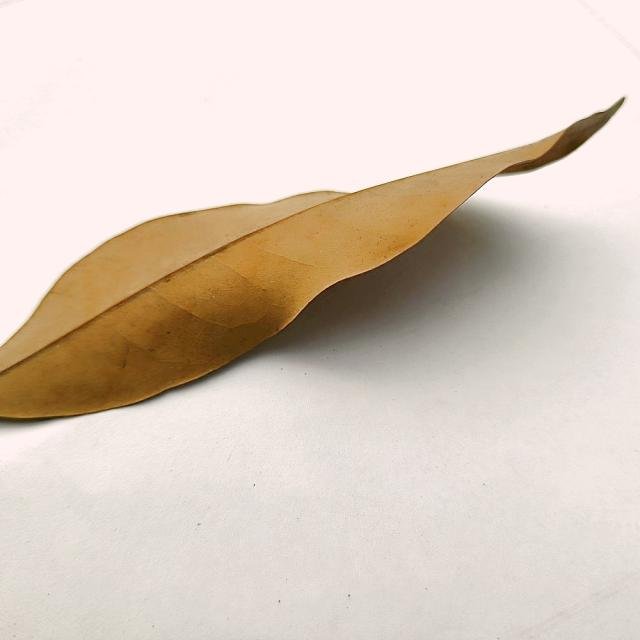Dry_Leaf-Lychee: (0, 100, 625, 424)
